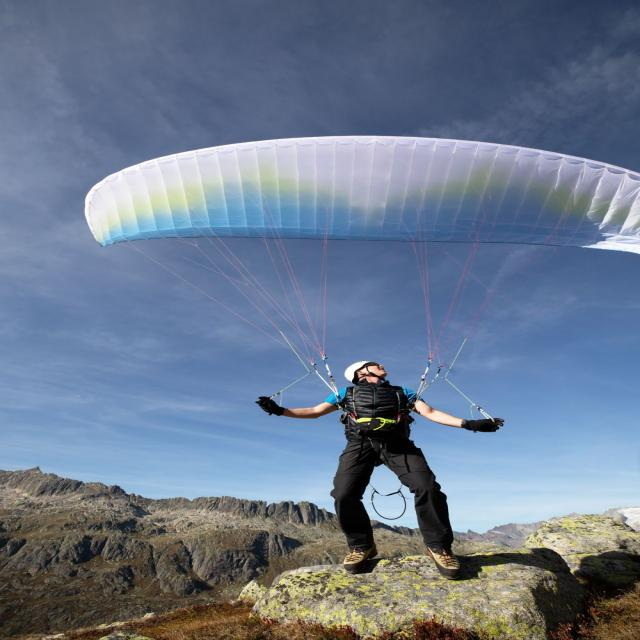paraglider: (80, 130, 640, 268)
